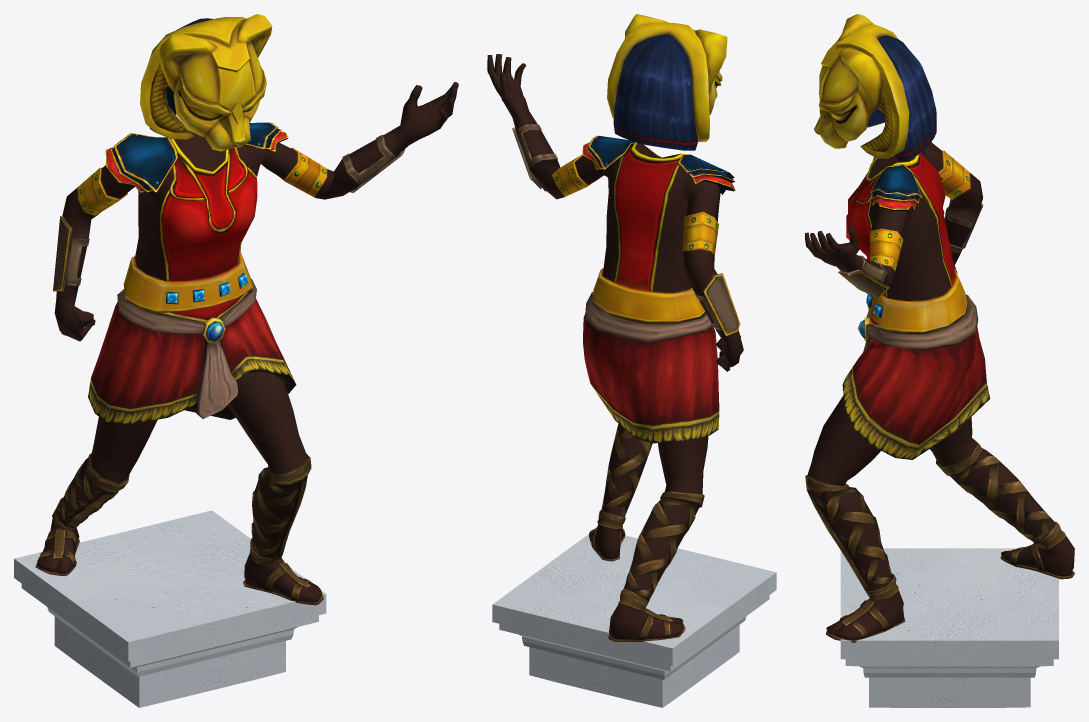
File: egypt-sekhmet.glb
The picture shows the model from 3 angles, left to right: view 1: azimuth 30°, elevation 25°; view 2: azimuth 150°, elevation 25°; view 3: azimuth 270°, elevation 25°; orthographic projection. The views are drawn at different scales.
Visible parts, largest first — view 1: land_egypt, F_Sekhmet_Upperbody, F_Sekhmet_Lowerbody, F_Sekhmet_Helmet, F_Sekhmet_Feet; view 2: land_egypt, F_Sekhmet_Upperbody, F_Sekhmet_Lowerbody, F_Sekhmet_Helmet, F_Sekhmet_Feet; view 3: F_Sekhmet_Lowerbody, land_egypt, F_Sekhmet_Upperbody, F_Sekhmet_Helmet, F_Sekhmet_Feet.
Part boxes in pixels (x1,y1,x2,y2): land_egypt: (14,510,326,707); F_Sekhmet_Upperbody: (53,82,458,341); F_Sekhmet_Lowerbody: (54,278,311,562); F_Sekhmet_Helmet: (140,14,272,151); F_Sekhmet_Feet: (35,511,323,605); land_egypt: (492,534,776,707); F_Sekhmet_Upperbody: (487,54,743,371); F_Sekhmet_Lowerbody: (583,292,719,605); F_Sekhmet_Helmet: (607,14,727,150); F_Sekhmet_Feet: (589,515,685,641); F_Sekhmet_Lowerbody: (805,294,1059,595); land_egypt: (840,548,1058,707); F_Sekhmet_Upperbody: (805,142,983,333); F_Sekhmet_Helmet: (814,14,936,161); F_Sekhmet_Feet: (826,526,1074,642).
Bounding box in the file's own units: 2.14 × 4.01 × 1.54.
6 materials, 5 textured.
